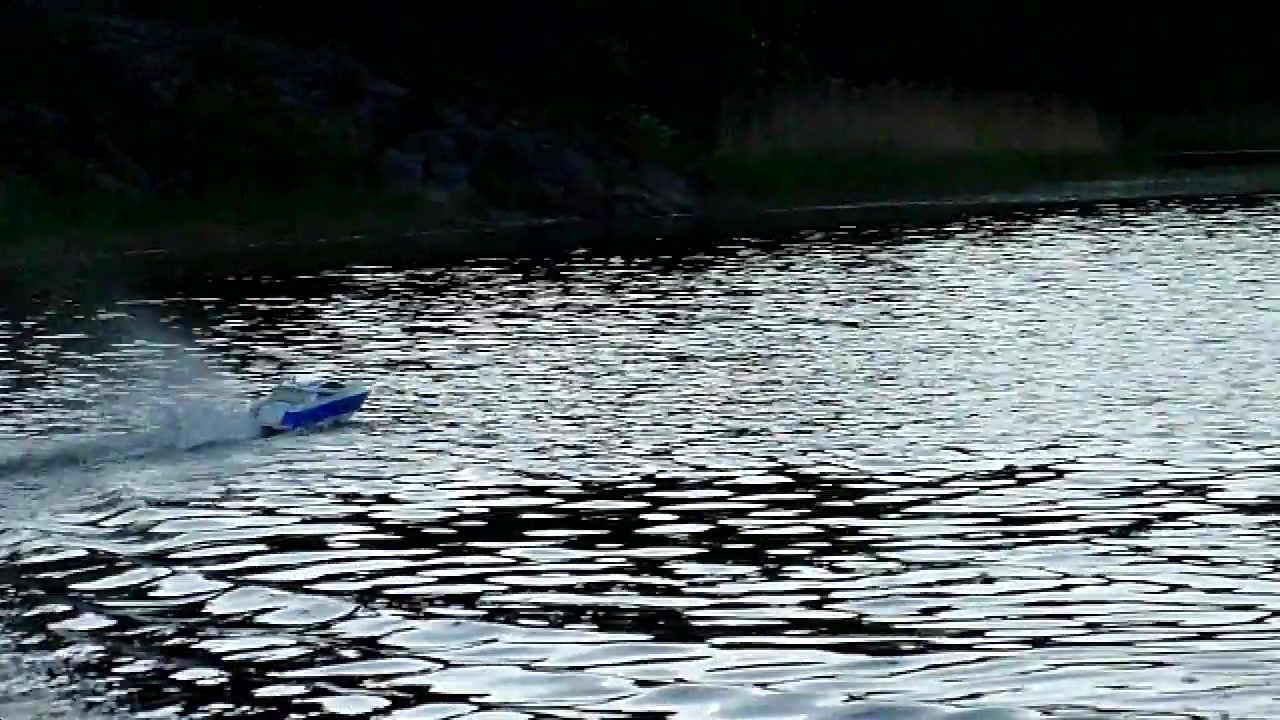boat: (249, 366, 374, 442)
